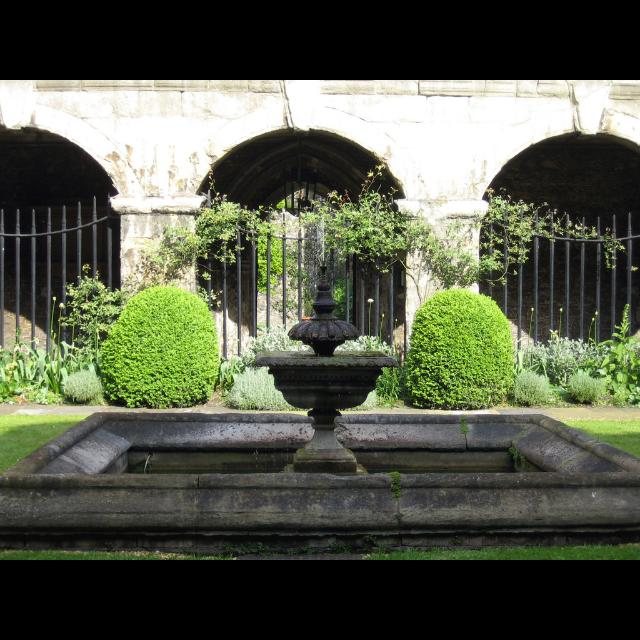Flower: (368, 298, 372, 300)
